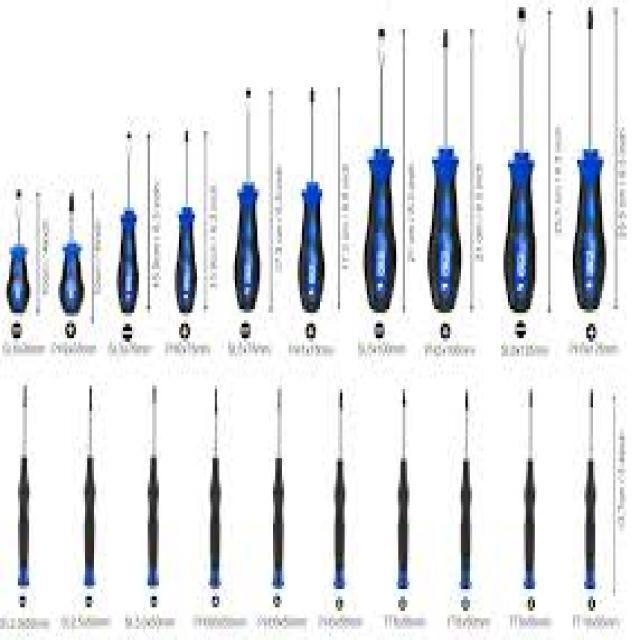screwdriver: (570, 0, 608, 316), (424, 21, 464, 316), (358, 28, 398, 316), (502, 2, 538, 318), (228, 78, 262, 315), (293, 86, 327, 314), (389, 387, 416, 591), (172, 125, 199, 318), (114, 125, 141, 318), (205, 382, 225, 593), (329, 382, 349, 593), (456, 385, 476, 593), (2, 183, 32, 314), (82, 378, 100, 593), (57, 187, 86, 318), (143, 384, 161, 592), (268, 384, 286, 592), (580, 386, 598, 590), (14, 376, 30, 591), (522, 382, 538, 590)
